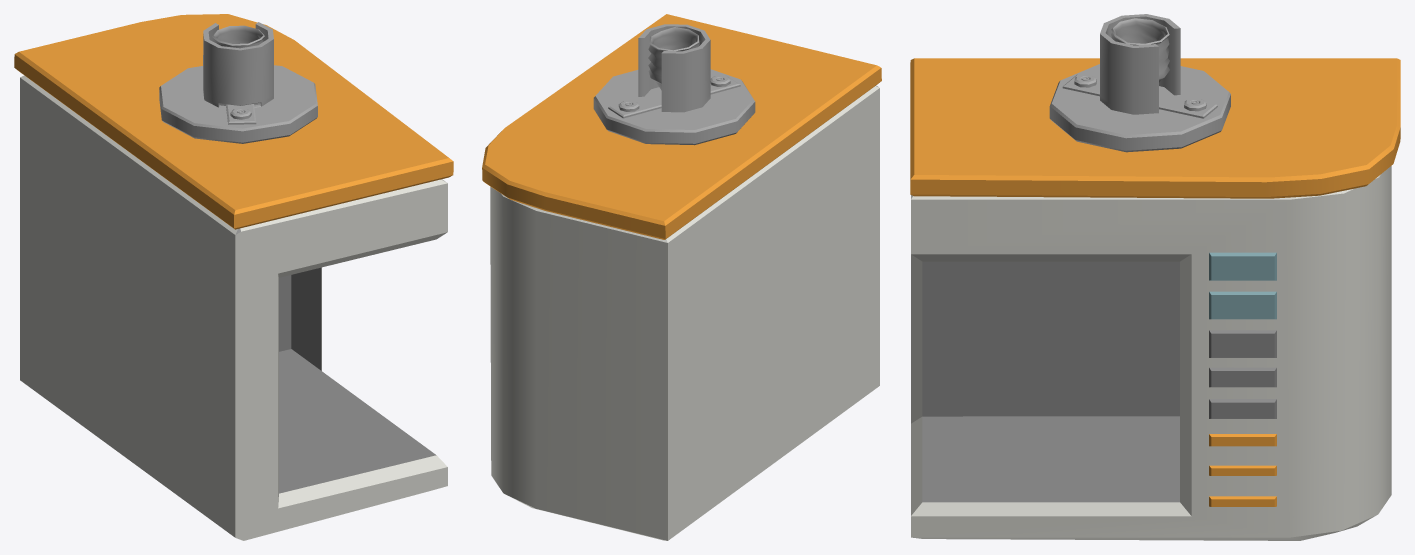
File: GearBulbBox.fbx
The picture shows the model from 3 angles, left to right: view 1: azimuth 30°, elevation 25°; view 2: azimuth 150°, elevation 25°; view 3: azimuth 270°, elevation 25°; orthographic projection. The views are drawn at different scales.
Parts seen in each view (by area): view 1: GearBulbBox; view 2: GearBulbBox; view 3: GearBulbBox.
Part boxes in pixels (x1,y1,x2,y2): GearBulbBox: (14, 14, 453, 540); GearBulbBox: (482, 14, 881, 540); GearBulbBox: (910, 14, 1400, 540).
Bounding box in the file's own units: 1.31 × 2.29 × 2.23.
